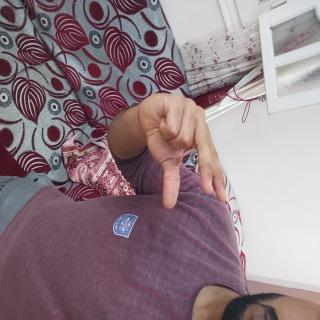DHELL: (63, 117, 167, 263)
